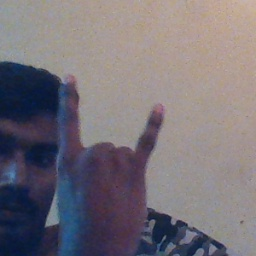V: (54, 71, 169, 251)
